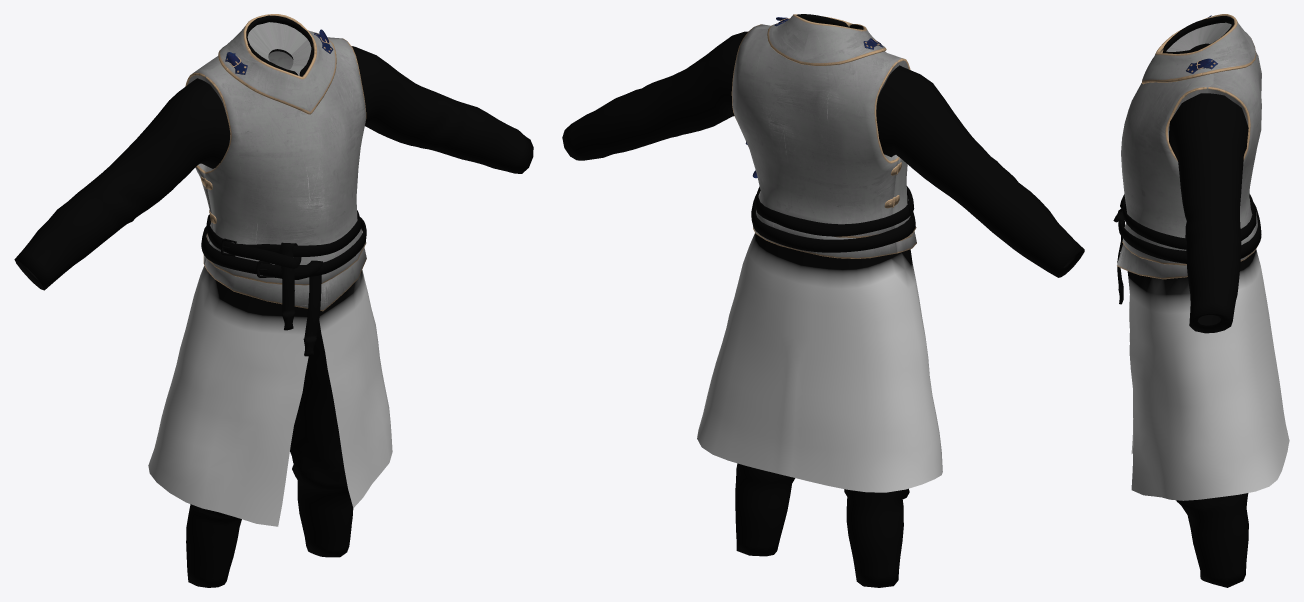
File: swan_knight_armor_1a_t1.fbx
3 views of the same model, side by side, from view 1: azimuth 30°, elevation 25°; view 2: azimuth 150°, elevation 25°; view 3: azimuth 270°, elevation 25° (orthographic). The views are drawn at different scales.
Visible parts, largest first — view 1: swan_knight_armor_1a_t1.0, swan_knight_armor_1a_t1.1; view 2: swan_knight_armor_1a_t1.0, swan_knight_armor_1a_t1.1; view 3: swan_knight_armor_1a_t1.0, swan_knight_armor_1a_t1.1.
Boxes of the visible parts, left/top/right/bottom form: swan_knight_armor_1a_t1.0: left=14, top=15, right=533, bottom=587; swan_knight_armor_1a_t1.1: left=185, top=14, right=366, bottom=311; swan_knight_armor_1a_t1.0: left=562, top=14, right=1084, bottom=587; swan_knight_armor_1a_t1.1: left=731, top=14, right=916, bottom=258; swan_knight_armor_1a_t1.0: left=1113, top=16, right=1289, bottom=587; swan_knight_armor_1a_t1.1: left=1117, top=14, right=1261, bottom=279.
Size of the model in its own units: 1.34 by 0.4125 by 1.37.
